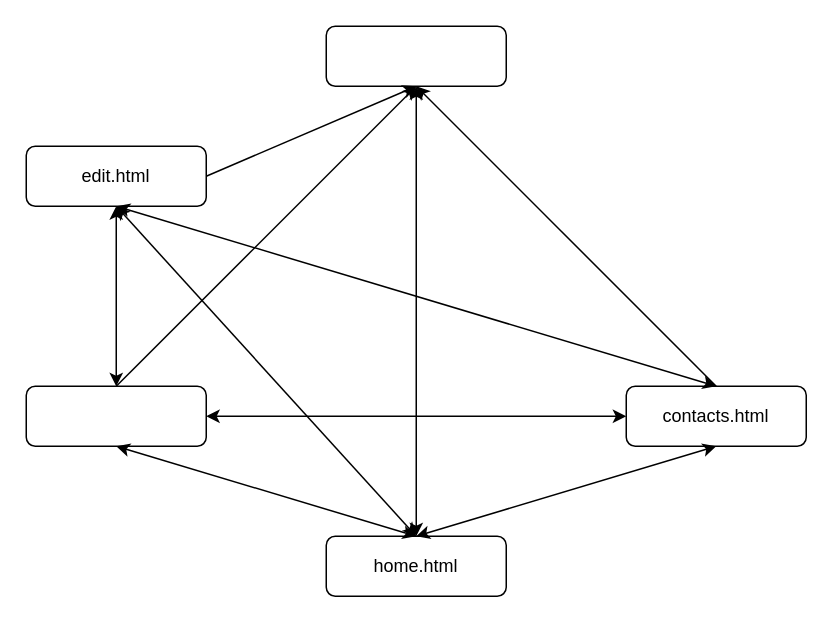
This 833x623 diagram has some shape labels left out. The centre of each missing label's shape, as x and y in pixels:
index.html: the point at 415,55
news.html: the point at 115,415
